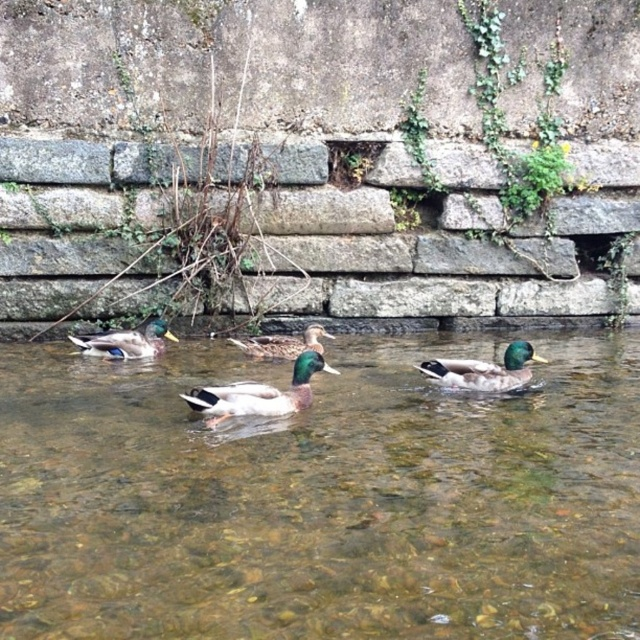Duck: (178, 353, 338, 428), (412, 342, 547, 399), (222, 316, 340, 381), (66, 312, 184, 364)
